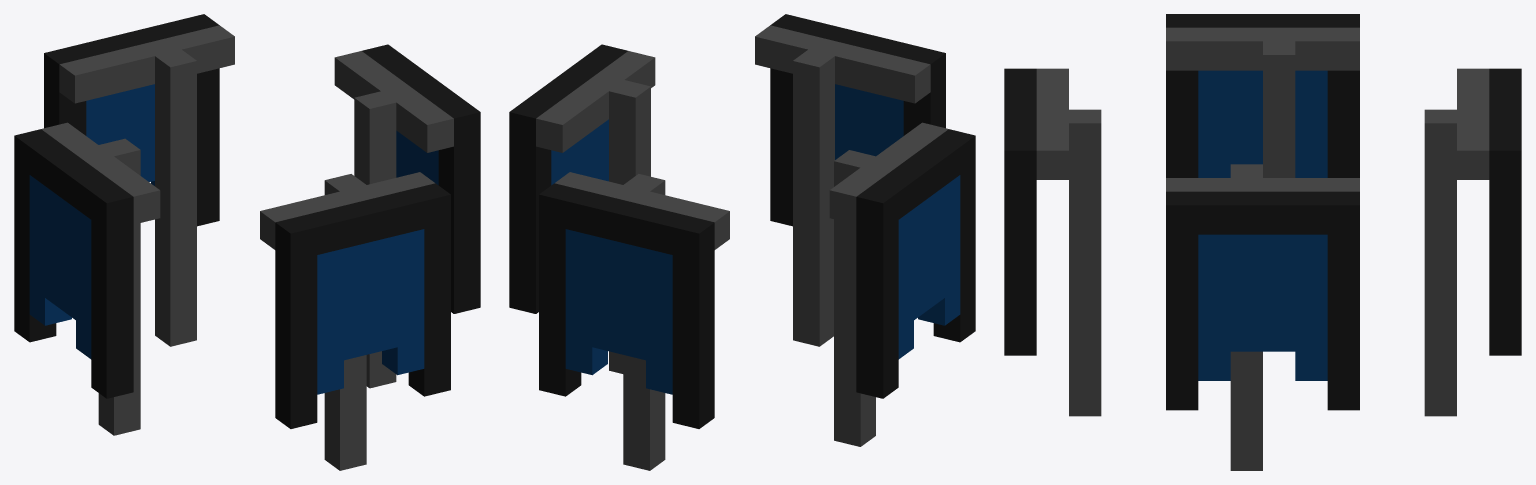
Rendered from arrowraintoken.blue.obj.
The picture shows the model from 3 angles, left to right: view 1: azimuth 30°, elevation 25°; view 2: azimuth 150°, elevation 25°; view 3: azimuth 270°, elevation 25°; orthographic projection. The views are drawn at different scales.
Bounding box in the file's own units: 1.4 × 1 × 1.6.
1 material, 1 textured.
